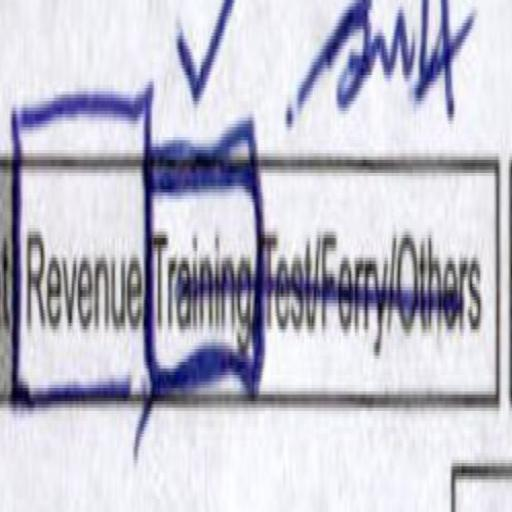check: (17, 28, 150, 431), (153, 0, 259, 476)
